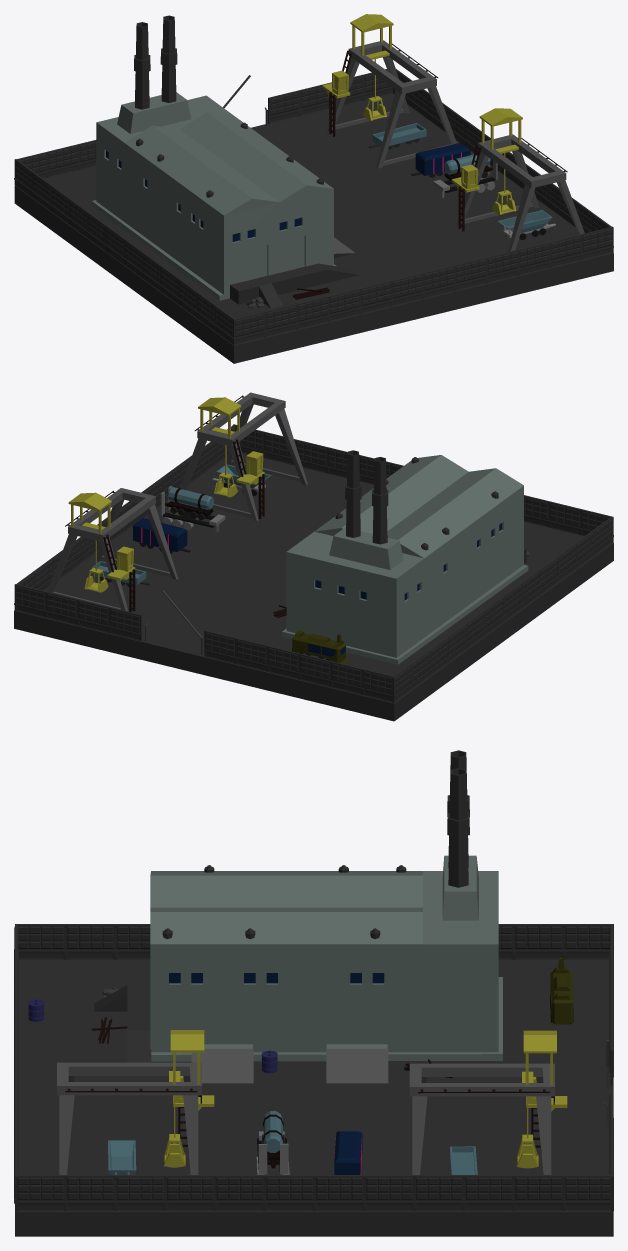
File: Plant.FBX
3 views of the same model, one above another, from view 1: azimuth 30°, elevation 25°; view 2: azimuth 150°, elevation 25°; view 3: azimuth 270°, elevation 25° (orthographic). The views are drawn at different scales.
Visible parts, largest first — view 1: Plant; view 2: Plant; view 3: Plant.
Boxes of the visible parts, x1,y1,x2,y2 form: Plant: [14, 14, 613, 363]; Plant: [14, 392, 613, 721]; Plant: [14, 750, 613, 1236].
Size of the model in its own units: 20022 by 10200 by 20045.
